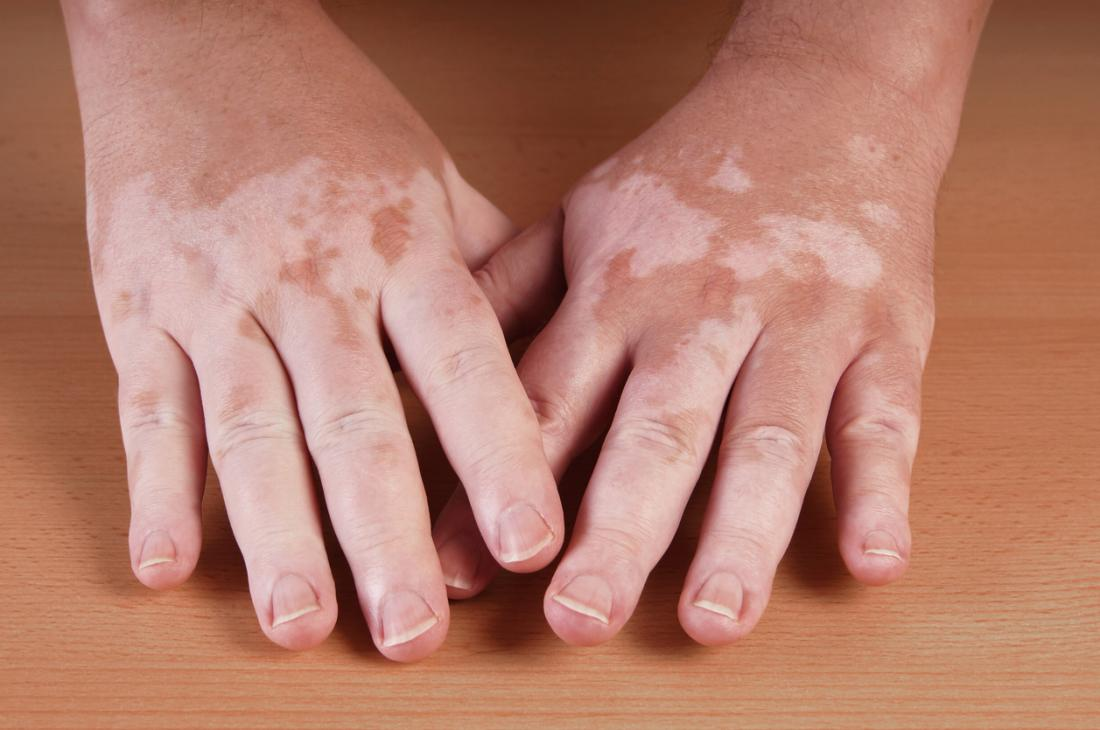Diseased: (97, 99, 912, 510)
